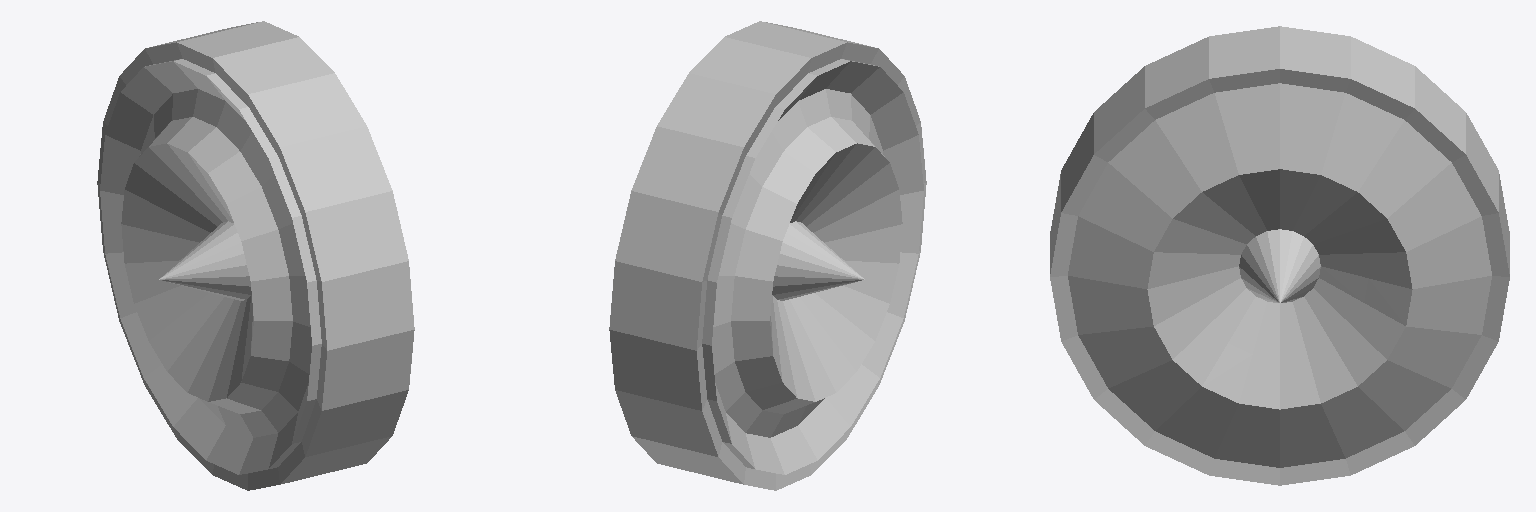
The model's file is Wheel2.obj.
3 views of the same model, side by side, from view 1: azimuth 30°, elevation 25°; view 2: azimuth 150°, elevation 25°; view 3: azimuth 270°, elevation 25° (orthographic).
Visible parts, largest first — view 1: pCylinder9; view 2: pCylinder9; view 3: pCylinder9.
Part boxes in pixels (bbox=[...]): pCylinder9: bbox=[97, 21, 414, 490]; pCylinder9: bbox=[609, 21, 926, 490]; pCylinder9: bbox=[1050, 26, 1509, 485].
Bounding box in the file's own units: 0.0691 × 0.1417 × 0.1417.